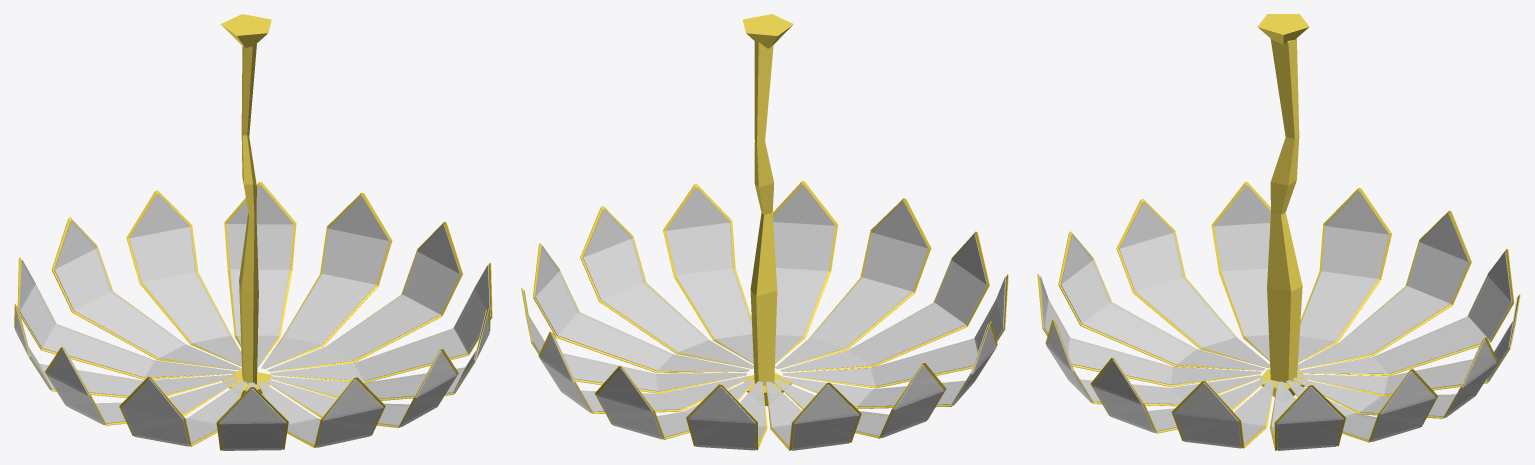
File: lampPink.FBX
The picture shows the model from 3 angles, left to right: view 1: azimuth 30°, elevation 25°; view 2: azimuth 150°, elevation 25°; view 3: azimuth 270°, elevation 25°; orthographic projection.
Visible parts, largest first — view 1: lamp; view 2: lamp; view 3: lamp.
Boxes of the visible parts, x1,y1,x2,y2 form: lamp: (14, 14, 492, 450); lamp: (521, 14, 1008, 450); lamp: (1037, 14, 1520, 450).
Size of the model in its own units: 77.09 by 66.5 by 77.36.
